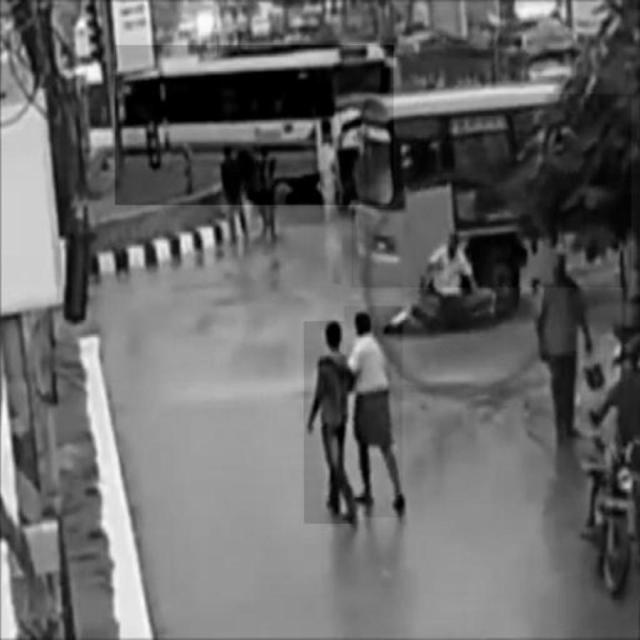person: (344, 306, 402, 517), (304, 322, 352, 524)
vehicle: (352, 94, 632, 288), (116, 45, 394, 205)
